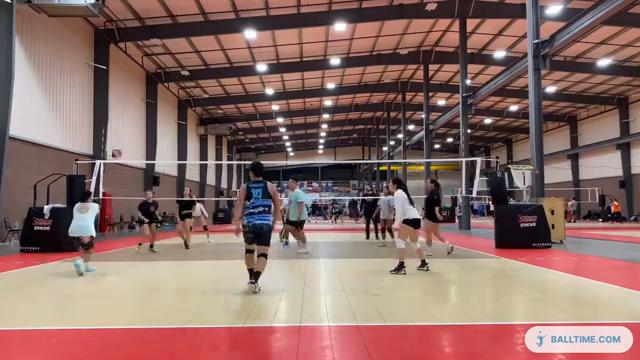Player: (235, 161, 279, 292), (389, 177, 428, 274), (425, 178, 453, 255), (286, 177, 308, 253), (138, 190, 160, 252), (176, 187, 195, 248), (374, 187, 393, 246), (360, 185, 378, 239), (193, 201, 211, 242), (279, 191, 288, 245)
Receive: (64, 188, 102, 280)
ball: (108, 147, 127, 162)
